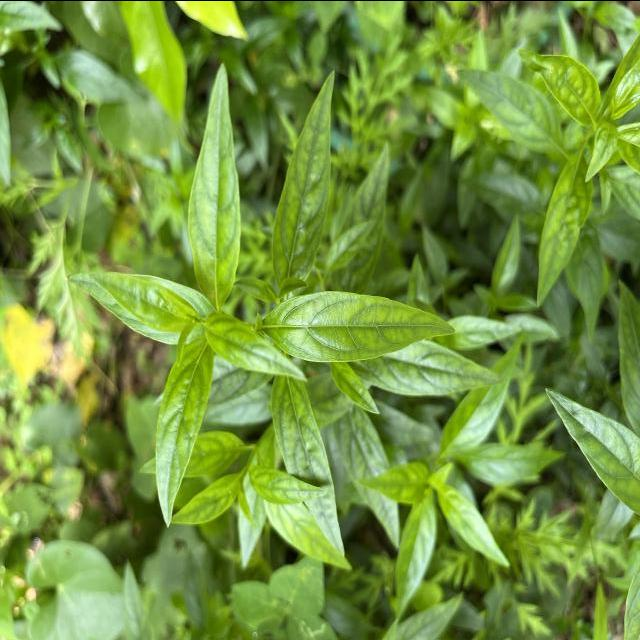Andrographis paniculata: (268, 372, 350, 558), (270, 66, 338, 287), (263, 285, 457, 362), (186, 59, 243, 305), (154, 343, 216, 530), (63, 267, 211, 345), (440, 330, 528, 452), (534, 148, 593, 308), (392, 498, 437, 623), (248, 463, 330, 508)
